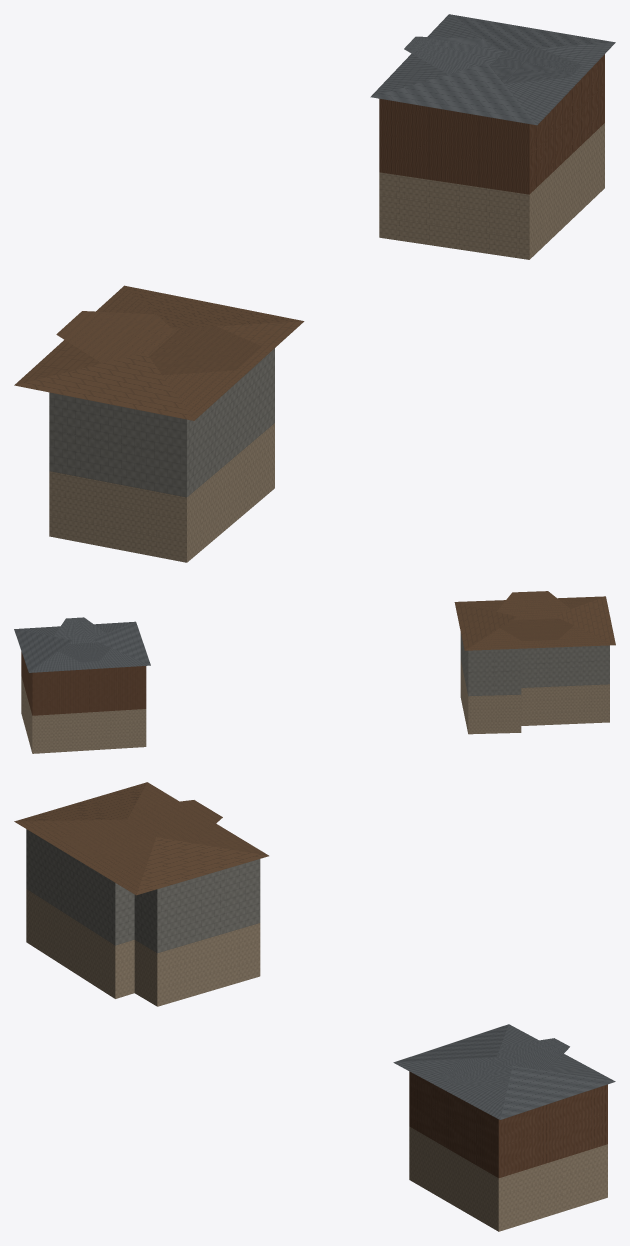
Rendered from bld_c19_30_373.gltf.
3 views of the same model, one above another, from view 1: azimuth 30°, elevation 25°; view 2: azimuth 150°, elevation 25°; view 3: azimuth 270°, elevation 25° (orthographic). The views are drawn at different scales.
Visible parts, largest first — view 1: bld_c19_30_373; view 2: bld_c19_30_373; view 3: bld_c19_30_373.
Boxes of the visible parts, x1,y1,x2,y2 form: bld_c19_30_373: (14,14,615,562); bld_c19_30_373: (14,591,615,753); bld_c19_30_373: (14,782,615,1231).
Size of the model in its own units: 66.76 by 13.2 by 52.02.
Materials: 5 (5 with a texture image).
